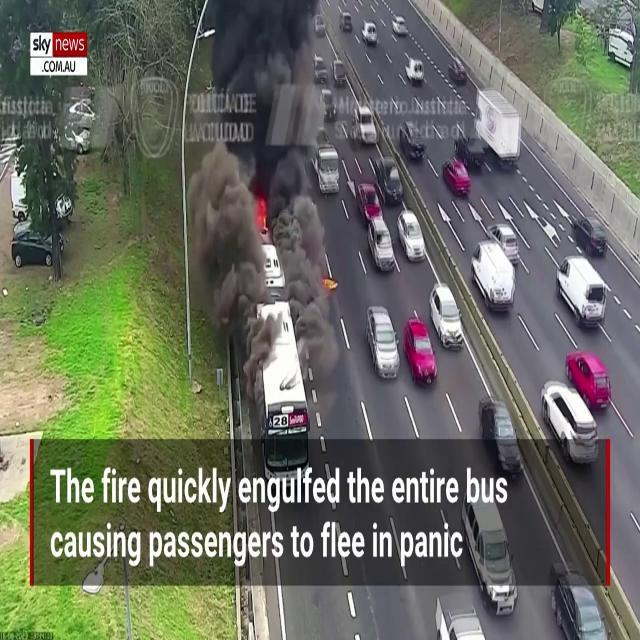Fire: (322, 267, 336, 297)
Smoke: (188, 1, 332, 337), (182, 125, 282, 372)
